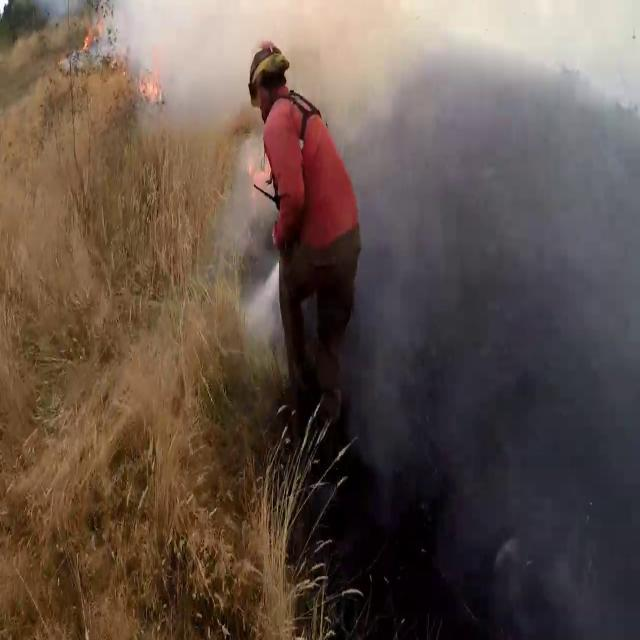Fire: (136, 55, 164, 106)
Smoke: (311, 11, 640, 610)
